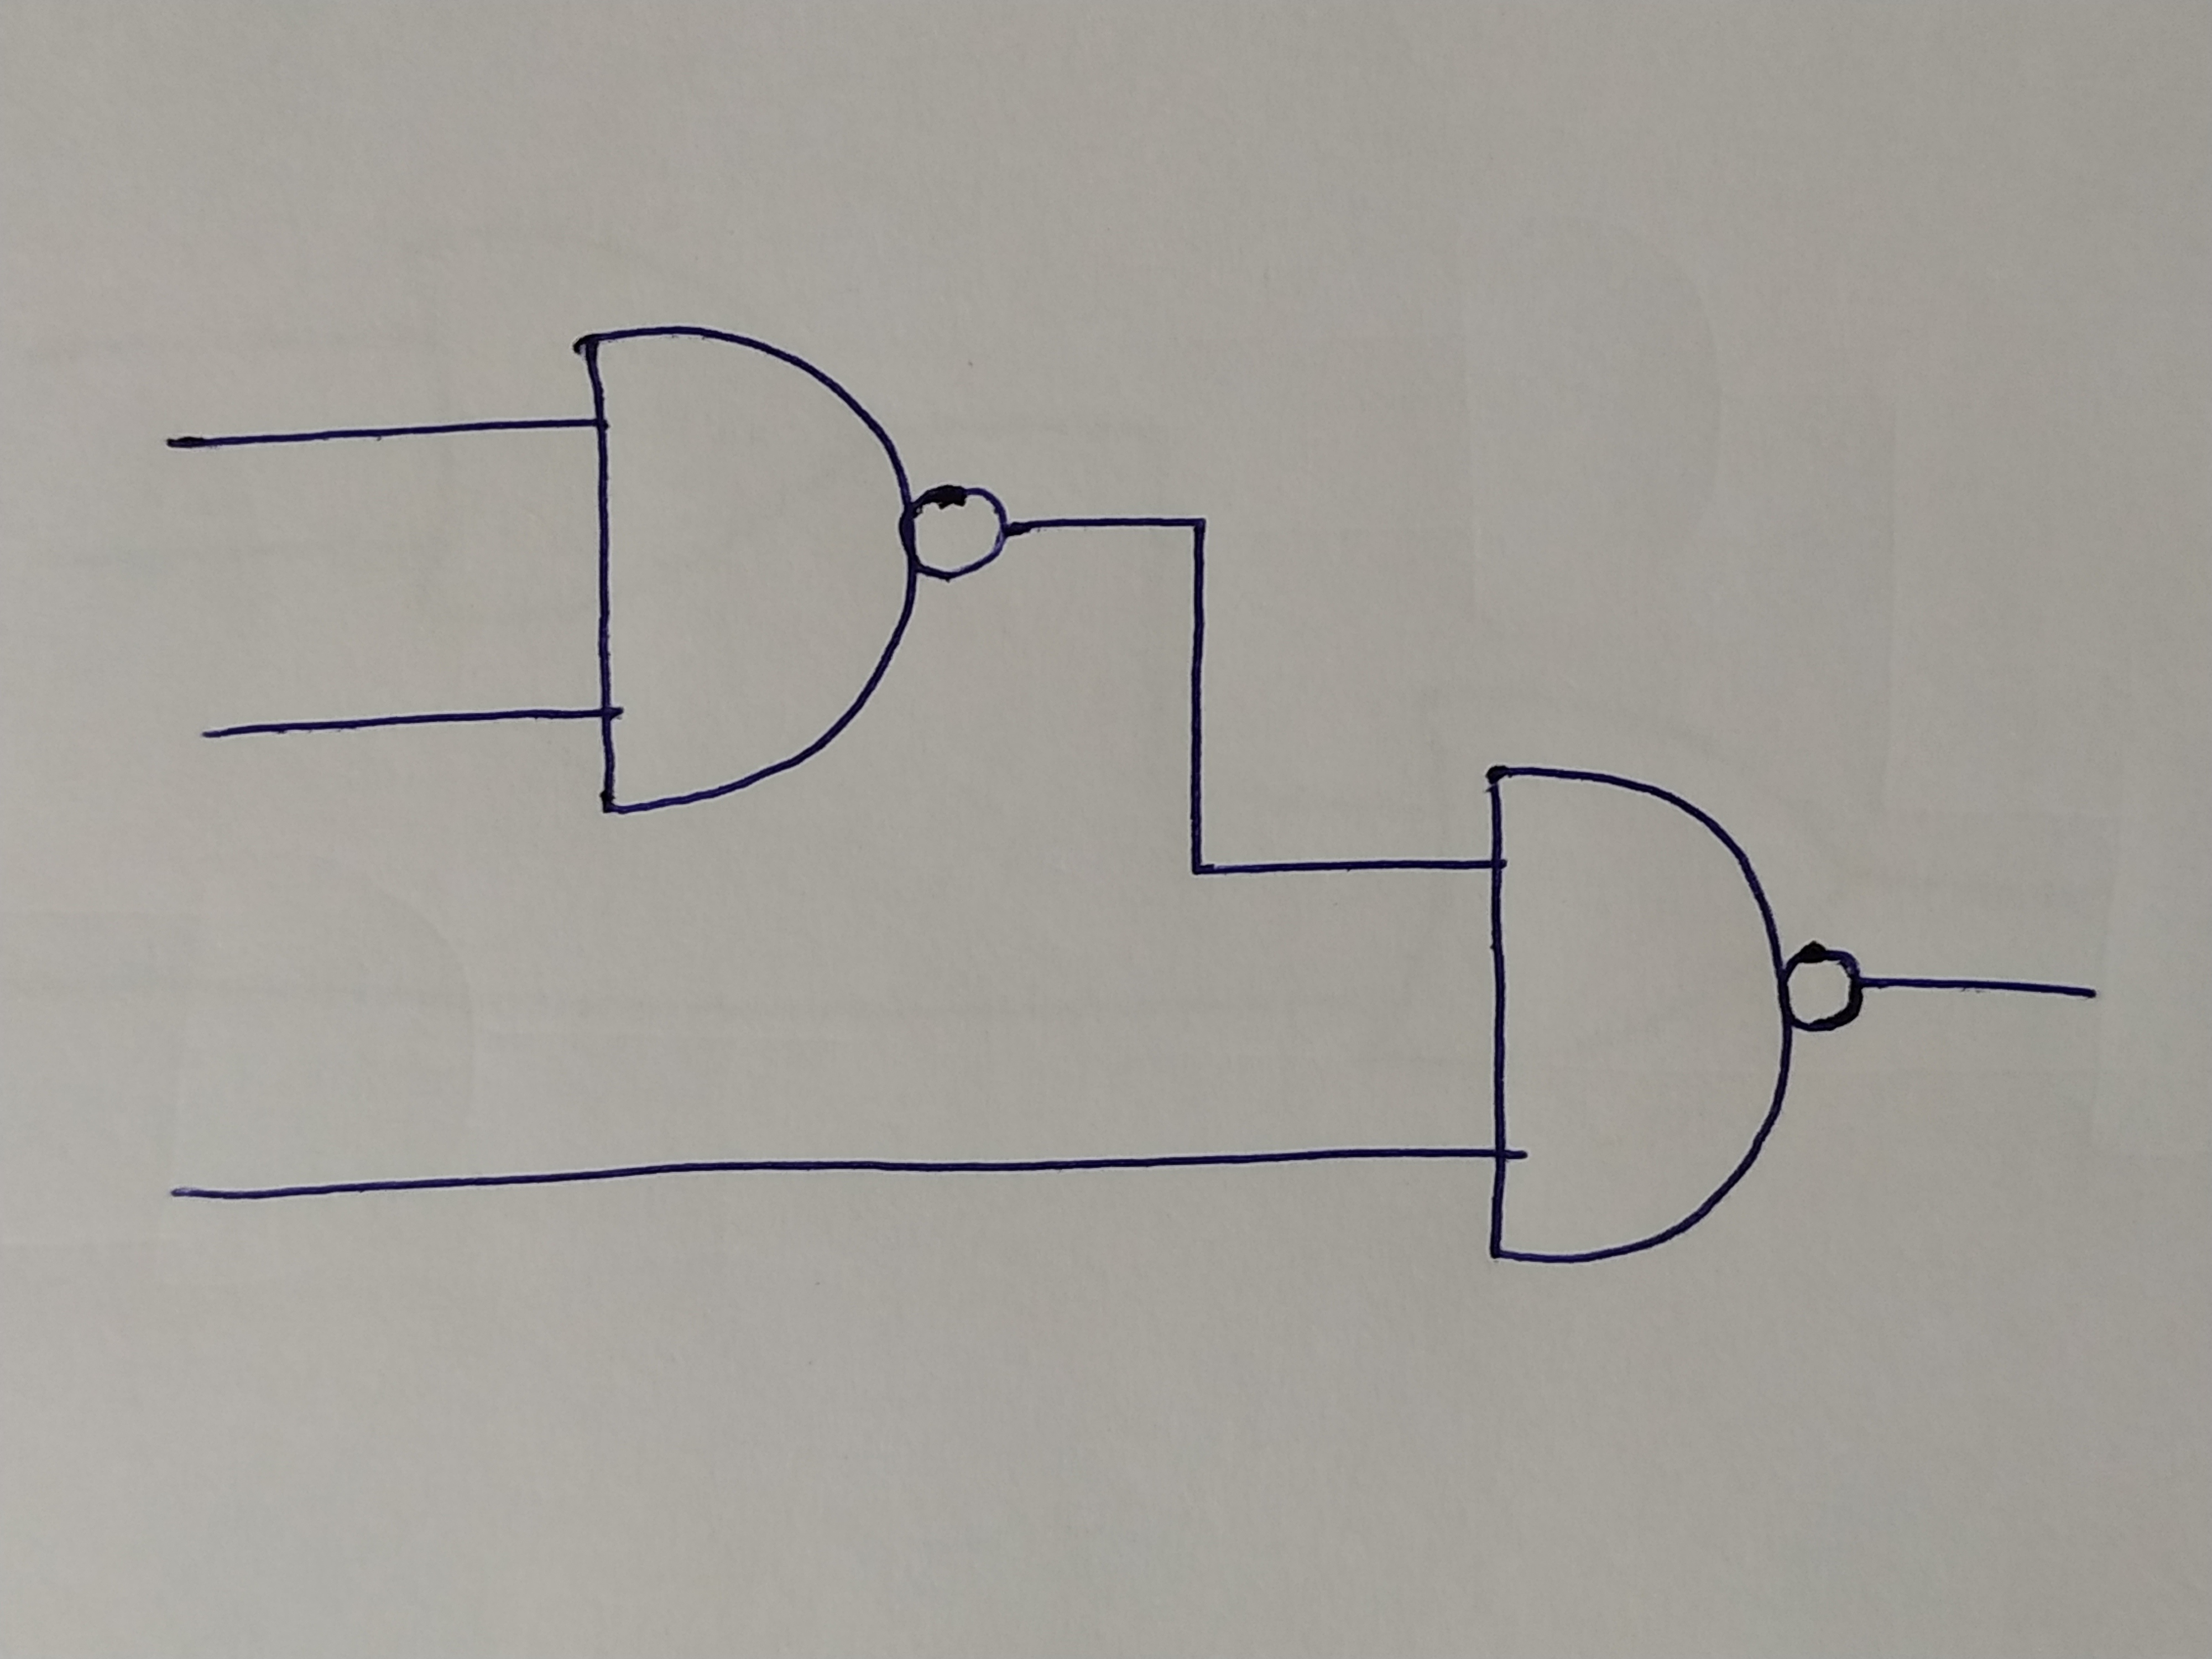and: (578, 328, 907, 809), (1486, 767, 1782, 1265)
not: (911, 488, 1000, 579), (1787, 941, 1862, 1026)
